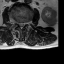CCS_normal: (20, 19, 22, 31)
LFS_normal: (25, 19, 27, 26)
LLS_normal: (22, 19, 25, 28)
RFS_normal: (15, 18, 17, 26)
RLS_normal: (17, 20, 20, 28)
